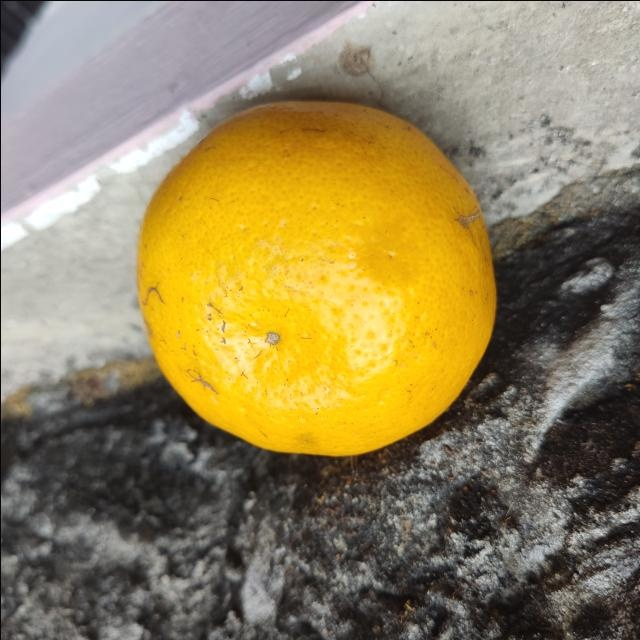agrume: (131, 94, 498, 458)
